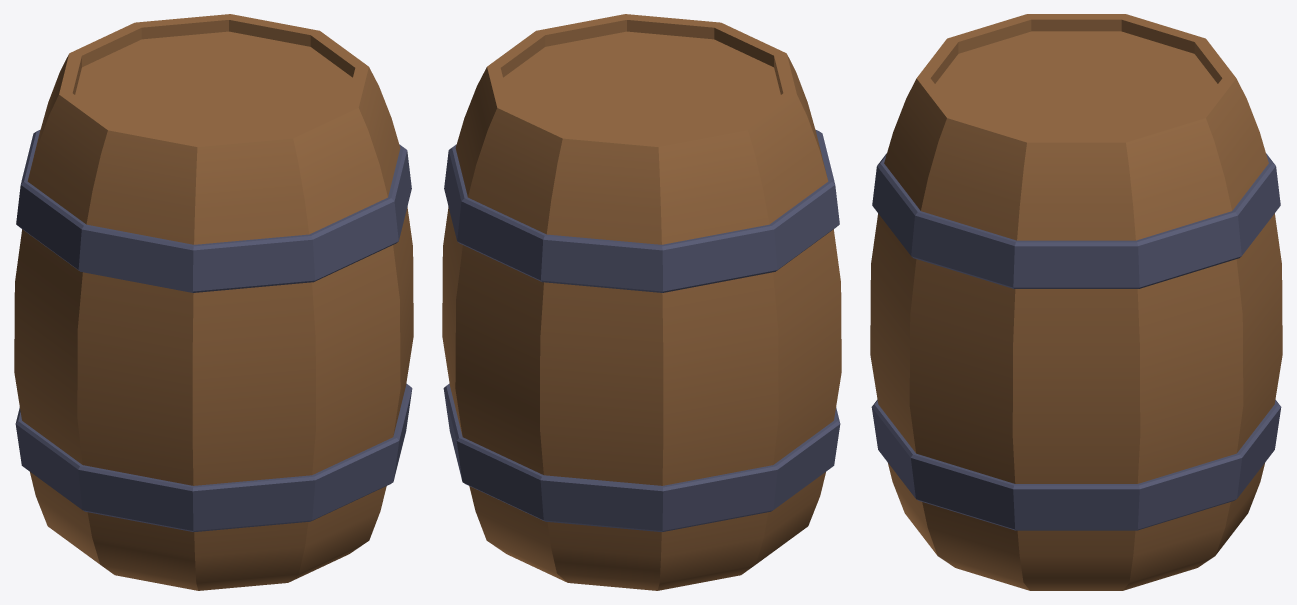
File: Barrel.fbx
The picture shows the model from 3 angles, left to right: view 1: azimuth 30°, elevation 25°; view 2: azimuth 150°, elevation 25°; view 3: azimuth 270°, elevation 25°; orthographic projection.
Parts seen in each view (by area): view 1: Barrel; view 2: Barrel; view 3: Barrel.
Boxes of the visible parts, box(x1,y1,x2,y2) form: Barrel: box(14, 14, 413, 590); Barrel: box(442, 14, 841, 590); Barrel: box(870, 14, 1282, 590).
Bounding box in the file's own units: 78.23 × 99.57 × 82.25.
